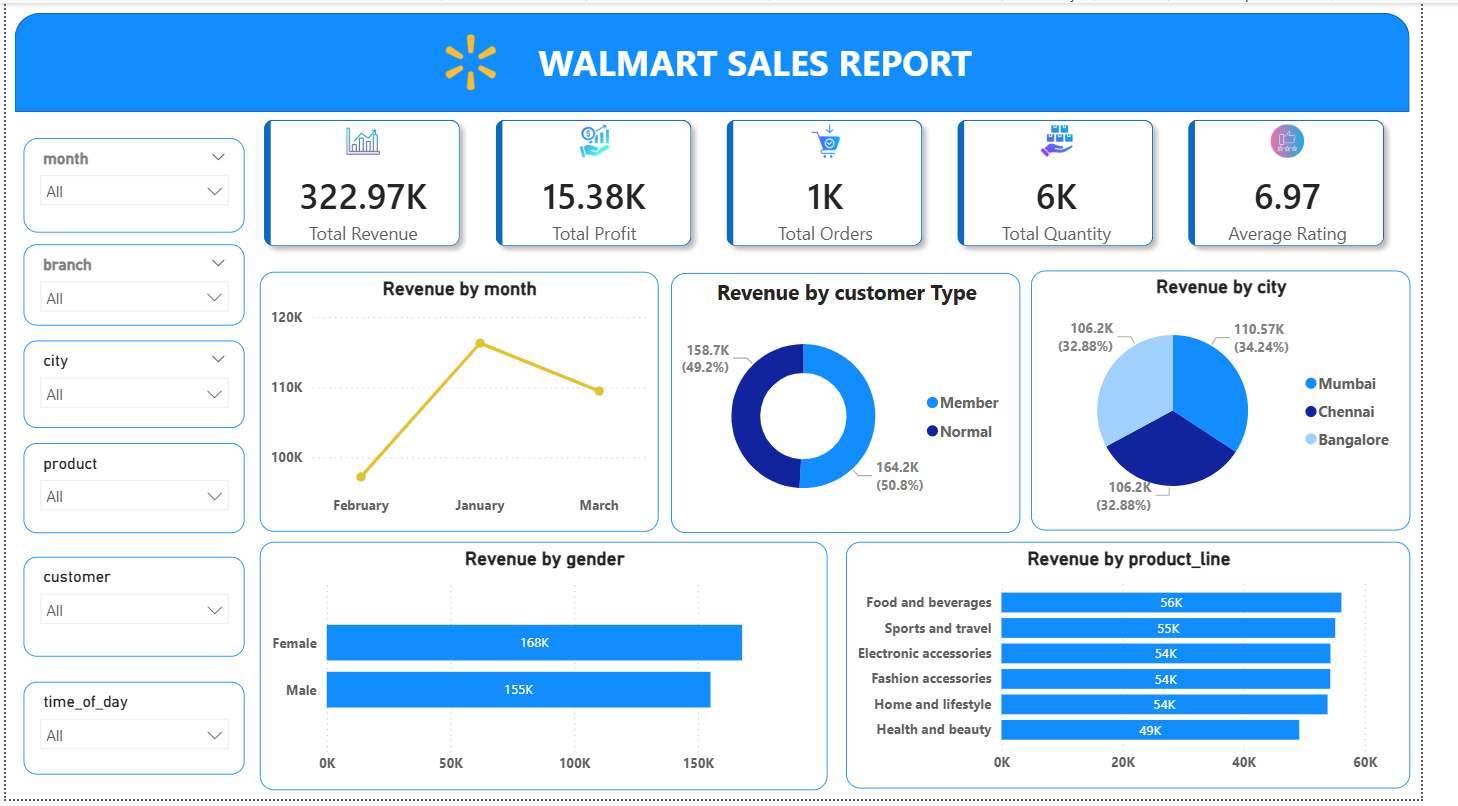

The page's visual inventory and layout, read from the dashboard file:
{"tool":"powerbi","page":{"name":"Page 1","canvas":[1280,720],"ordinal":0},"visuals":[{"type":"cardVisual","fields":{"Data":["walmart_sales sales.Total Revenue","walmart_sales sales.Total Profit","walmart_sales sales.Total Orders","walmart_sales sales.Total Quantity","walmart_sales sales.Average Rating"]},"box":[204.7,76.7,1075.6,172.1],"z":0},{"type":"shape","box":[8.1,9.3,1261.6,89.5],"z":1000},{"type":"image","box":[392.3,24.9,55.4,57.7],"z":2000},{"type":"textbox","box":[447.7,27.1,460.2,55.4],"z":3000},{"type":"lineChart","title":"Revenue by month","fields":{"Category":["walmart_sales sales.month_name"],"Y":["walmart_sales sales.Total Revenue"]},"box":[229.1,243,360.5,234.9],"z":4000},{"type":"clusteredBarChart","title":" Revenue by product_line","fields":{"Y":["walmart_sales sales.Total Revenue"],"Category":["walmart_sales sales.product_line"]},"box":[759.3,487.2,510.5,223.3],"z":5000},{"type":"clusteredBarChart","title":" Revenue by gender","fields":{"Y":["walmart_sales sales.Total Revenue"],"Category":["walmart_sales sales.gender"]},"box":[229.1,487.2,514,224.4],"z":6000},{"type":"donutChart","title":" Revenue by customer Type","fields":{"Y":["walmart_sales sales.Total Revenue"],"Category":["walmart_sales sales.customer_type"]},"box":[601.2,244.2,316.3,234.9],"z":7000},{"type":"pieChart","title":"Revenue by city","fields":{"Y":["walmart_sales sales.Total Revenue"],"Category":["walmart_sales sales.city"]},"box":[926.7,241.9,343,234.9],"z":8000},{"type":"slicer","fields":{"Values":["walmart_sales sales.branch"]},"box":[16.3,218.6,200,73.3],"z":9000},{"type":"slicer","fields":{"Values":["walmart_sales sales.month_name"]},"box":[15.8,122.1,200.1,85.9],"z":10000},{"type":"slicer","fields":{"Values":["walmart_sales sales.city"]},"box":[16.3,305.8,200,79.1],"z":11000},{"type":"slicer","fields":{"Values":["walmart_sales sales.product_line"]},"box":[15.8,398,200.1,81.4],"z":12000},{"type":"slicer","fields":{"Values":["walmart_sales sales.customer_type"]},"box":[15.8,500.9,200.1,90.5],"z":13000},{"type":"slicer","fields":{"Values":["walmart_sales sales.time_of_day"]},"box":[15.8,613.9,200.1,83.7],"z":14000}]}

Visuals, with their boxes in screenshot pixels (x1, y1, x2, y2), scaled from the page's 1280x720 canvas onto the 1458x806 screenshot:
cardVisual - walmart_sales sales.Total Revenue x walmart_sales sales.Total Profit: (233,86,1457,279)
shape: (9,10,1446,111)
image: (447,28,510,92)
textbox: (510,30,1034,92)
"Revenue by month" lineChart: (261,272,672,535)
" Revenue by product_line" clusteredBarChart: (865,545,1446,795)
" Revenue by gender" clusteredBarChart: (261,545,846,797)
" Revenue by customer Type" donutChart: (685,273,1045,536)
"Revenue by city" pieChart: (1056,271,1446,534)
slicer - walmart_sales sales.branch: (19,245,246,327)
slicer - walmart_sales sales.month_name: (18,137,246,233)
slicer - walmart_sales sales.city: (19,342,246,431)
slicer - walmart_sales sales.product_line: (18,446,246,537)
slicer - walmart_sales sales.customer_type: (18,561,246,662)
slicer - walmart_sales sales.time_of_day: (18,687,246,781)
